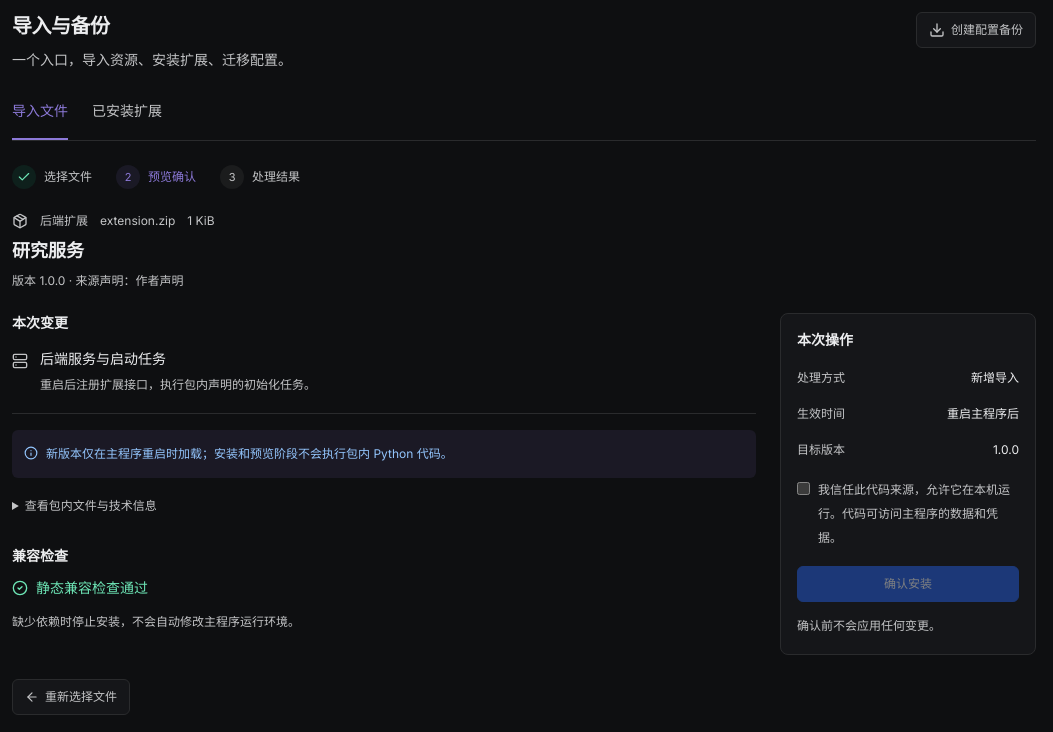
Test: one file entry only previews; backend installation requires explicit trust and retains the digest/revision
The width and height of the screenshot is (1053, 732).
Earlier steps of the test are not shown.
Check: the button "确认安装" is disabled, box 797,566 -> 1019,602
What coordinates should you click on to do the following:
click the checkbox named "信任代码来源"
I would click on:
 (804, 488)
Its box is 797,482 -> 810,495.
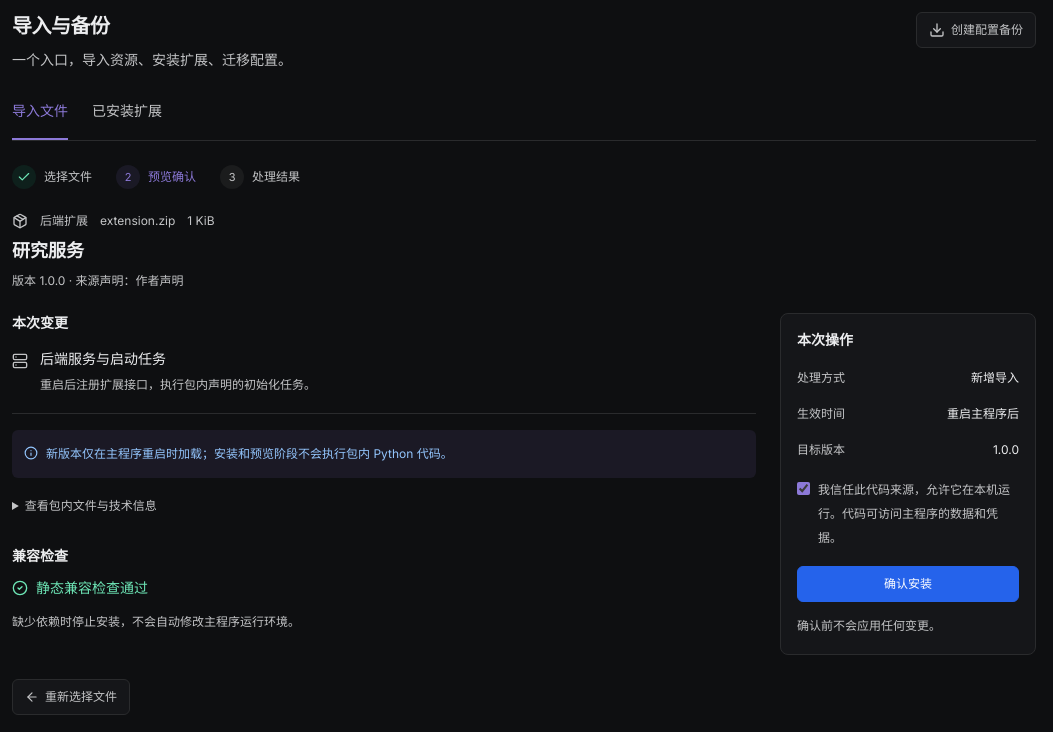
What coordinates should you click on to do the following:
click the button "确认安装"
I would click on:
 (908, 584)
Its box is 797,566 -> 1019,602.
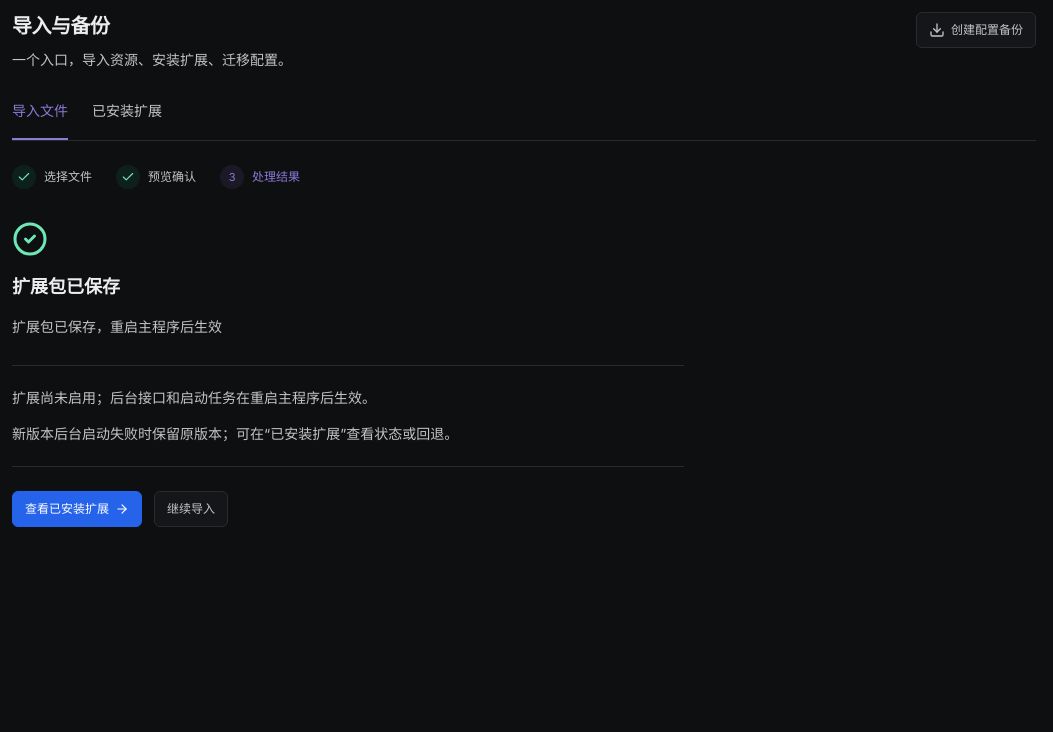
Check: the text "重启主程序后生效" is shown, box 12,318 -> 222,335
